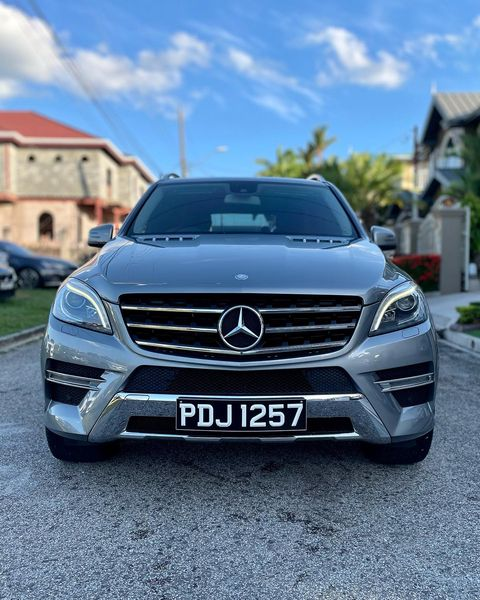License-Plate: (176, 400, 305, 428)
